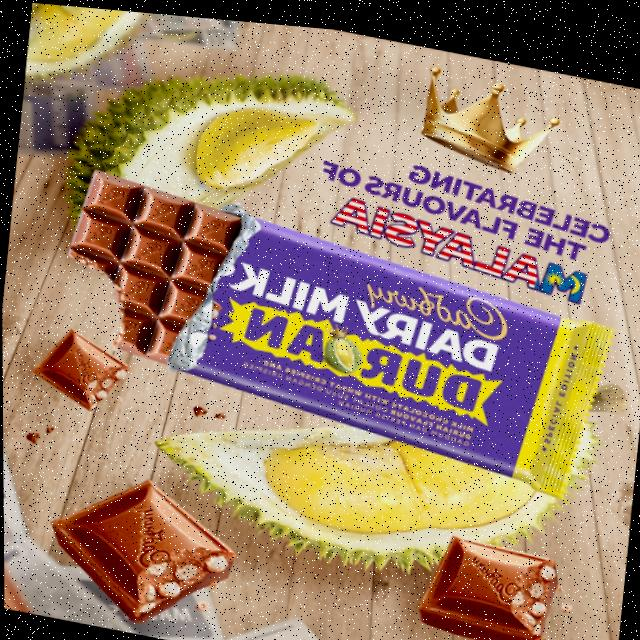cadbury: (58, 166, 617, 490)
